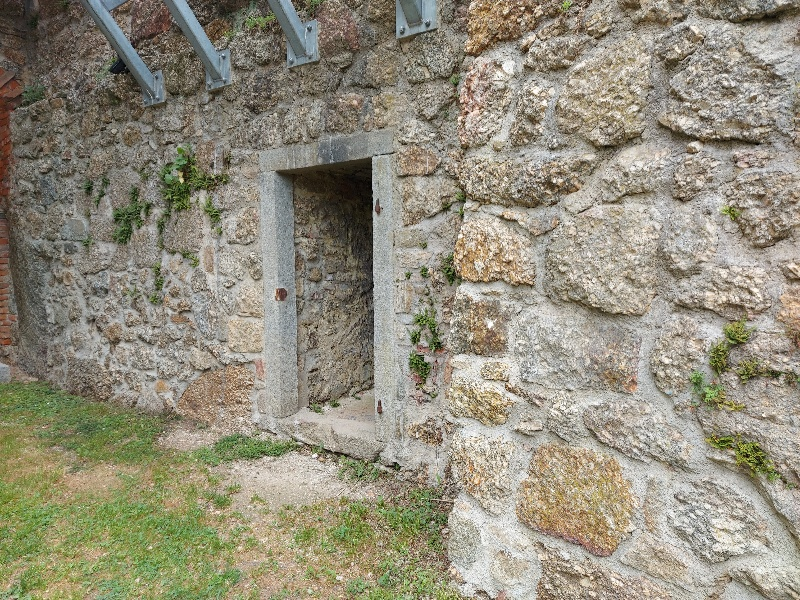door1: (248, 132, 419, 458)
